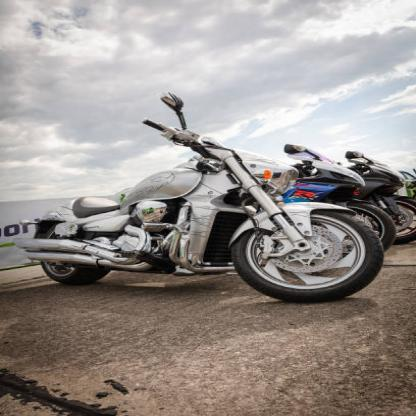Motorcycle: (22, 124, 382, 300)
